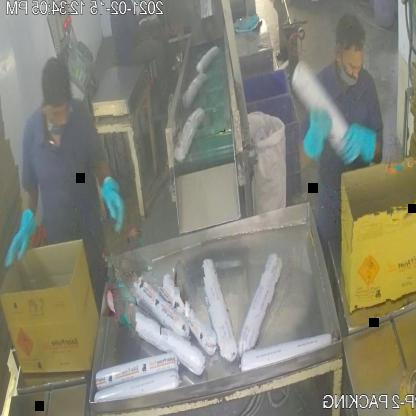glove: (90, 157, 134, 242), (335, 115, 384, 188), (292, 91, 332, 178), (1, 199, 44, 279)
